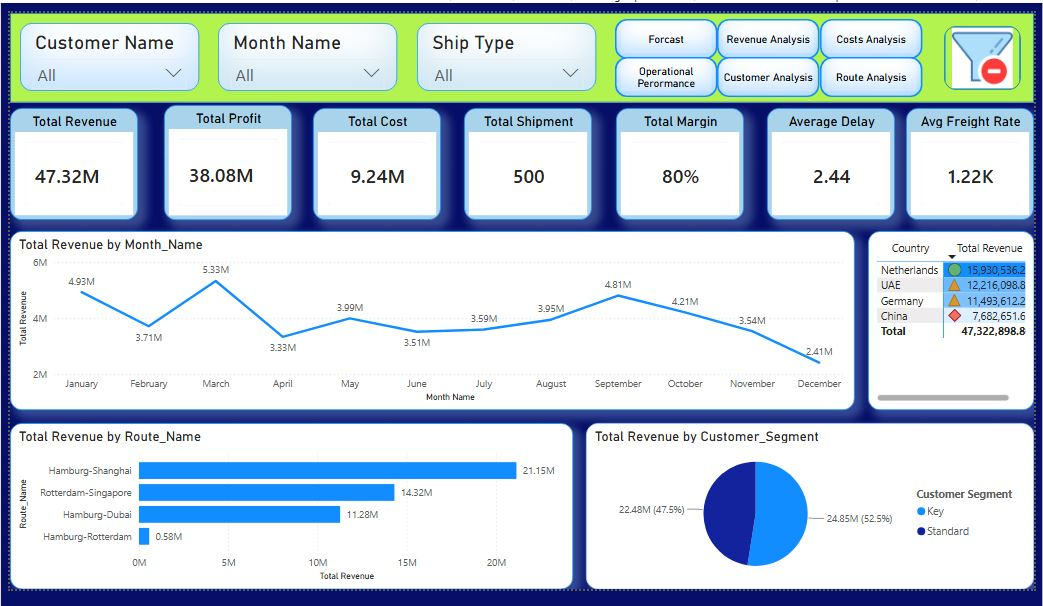

What the dashboard file says about the page in this screenshot:
{"tool":"powerbi","page":{"name":"01 Executive Dashboard ","canvas":[1280,720],"ordinal":0},"visuals":[{"type":"shape","box":[0,0,1280,112],"z":0,"group":"g2"},{"type":"lineChart","title":"Total Revenue by Month_Name","fields":{"Y":["Measure.M_Total Revenue"],"Category":["Calender.Month_Name"]},"box":[0,272,1056,224],"z":0},{"type":"image","box":[1168,16,96,80],"z":1000,"group":"g2"},{"type":"cardVisual","title":"Total Revenue","fields":{"Data":["Measure.M_Total Revenue"]},"box":[0,118.7,160,140],"z":1000},{"type":"slicer","fields":{"Values":["Dim_Ships.Ship_Type"]},"box":[508.5,12.5,224,85],"z":2000,"group":"g2"},{"type":"cardVisual","title":"Total Profit","fields":{"Data":["Measure.M_Profit"]},"box":[192,114.7,160,144],"z":2000},{"type":"slicer","fields":{"Values":["Calender.Month_Name"]},"box":[260.5,12.5,224,85],"z":3000,"group":"g2"},{"type":"cardVisual","title":"Total Cost","fields":{"Data":["Measure.M_Total Operational Cost"]},"box":[378.7,118.7,160,140],"z":3000},{"type":"slicer","fields":{"Values":["Dim_Customers.Customer_Name"]},"box":[12.5,12.5,224,85],"z":4000,"group":"g2"},{"type":"cardVisual","title":"Total Shipment","fields":{"Data":["Measure.M_Total Shipments"]},"box":[568,118.7,160,140],"z":4000},{"type":"shape","box":[756.2,7.5,128,50],"z":5000,"group":"g2"},{"type":"pieChart","title":"Total Revenue by Customer_Segment","fields":{"Category":["Dim_Customers.Customer_Segment"],"Y":["Measure.M_Total Revenue"]},"box":[720,512,560,208],"z":5000},{"type":"shape","box":[884.2,7.5,128,50],"z":6000,"group":"g2"},{"type":"cardVisual","title":"Total Margin","fields":{"Data":["Measure.M_Profit Margin"]},"box":[757.3,118.7,160,140],"z":6000},{"type":"shape","box":[1012.2,7.5,128,50],"z":7000,"group":"g2"},{"type":"cardVisual","title":"Average Delay","fields":{"Data":["Measure.M_Average Delay"]},"box":[946.7,118.7,160,140],"z":7000},{"type":"shape","box":[756.2,55.5,128,50],"z":8000,"group":"g2"},{"type":"pivotTable","fields":{"Rows":["Dim_Customers.Country"],"Values":["Measure.M_Total Revenue"]},"box":[1072,272,208,224],"z":8000},{"type":"shape","box":[884.2,55.5,128,50],"z":9000,"group":"g2"},{"type":"clusteredBarChart","title":"Total Revenue by Route_Name","fields":{"Y":["Measure.M_Total Revenue"],"Category":["Dim_Routes.Route_Name"]},"box":[0,512,704,208],"z":9000},{"type":"shape","box":[1012.2,55.5,128,50],"z":10000,"group":"g2"},{"type":"cardVisual","title":"Avg Freight Rate","fields":{"Data":["Measure.M_Average Freight Rate"]},"box":[1120,118.7,160,140],"z":10000},{"type":"group","id":"g1","title":"Group 1","box":[0,0,1280,112],"z":11000},{"type":"group","id":"g2","title":"Group 2","box":[0,0,1280,112],"z":11001,"group":"g1"}]}

Visuals, with their boxes on the page's 1280x720 design canvas (x1, y1, x2, y2). These are canvas units, not pixel positions in the 1043x606 screenshot, which may show the page scaled, cropped or inside an application window:
shape: (0,0,1280,112)
"Total Revenue by Month_Name" lineChart: (0,272,1056,496)
image: (1168,16,1264,96)
"Total Revenue" cardVisual: (0,119,160,259)
slicer - Dim_Ships.Ship_Type: (508,12,732,98)
"Total Profit" cardVisual: (192,115,352,259)
slicer - Calender.Month_Name: (260,12,484,98)
"Total Cost" cardVisual: (379,119,539,259)
slicer - Dim_Customers.Customer_Name: (12,12,236,98)
"Total Shipment" cardVisual: (568,119,728,259)
shape: (756,8,884,58)
"Total Revenue by Customer_Segment" pieChart: (720,512,1280,720)
shape: (884,8,1012,58)
"Total Margin" cardVisual: (757,119,917,259)
shape: (1012,8,1140,58)
"Average Delay" cardVisual: (947,119,1107,259)
shape: (756,56,884,106)
pivotTable - Dim_Customers.Country x Measure.M_Total Revenue: (1072,272,1280,496)
shape: (884,56,1012,106)
"Total Revenue by Route_Name" clusteredBarChart: (0,512,704,720)
shape: (1012,56,1140,106)
"Avg Freight Rate" cardVisual: (1120,119,1280,259)
"Group 1" group: (0,0,1280,112)
"Group 2" group: (0,0,1280,112)
